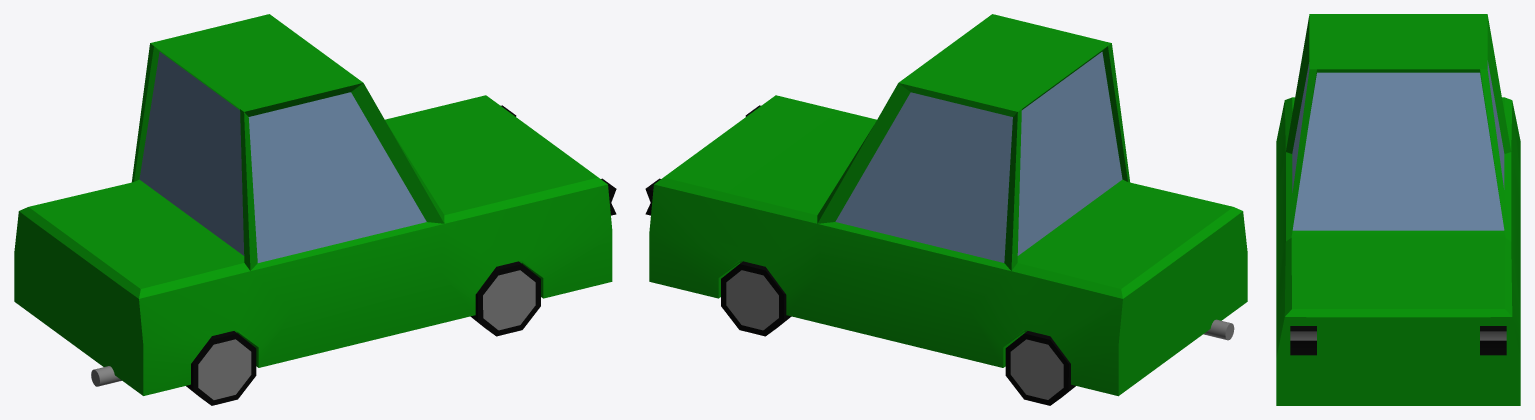
The model's file is Decoration_Car_Green.fbx.
3 views of the same model, side by side, from view 1: azimuth 30°, elevation 25°; view 2: azimuth 150°, elevation 25°; view 3: azimuth 270°, elevation 25° (orthographic). The views are drawn at different scales.
Visible parts, largest first — view 1: pCube1, pCylinder3, pCylinder1; view 2: pCube1, pCylinder2, pCylinder4; view 3: pCube1, pCube2, pCube3.
Part boxes in pixels (bbox=[...]): pCube1: bbox=[14, 14, 612, 395]; pCylinder3: bbox=[470, 261, 540, 336]; pCylinder1: bbox=[186, 331, 256, 405]; pCube1: bbox=[649, 14, 1247, 396]; pCylinder2: bbox=[1005, 331, 1075, 405]; pCylinder4: bbox=[721, 261, 791, 336]; pCube1: bbox=[1276, 14, 1520, 405]; pCube2: bbox=[1290, 326, 1316, 355]; pCube3: bbox=[1480, 326, 1506, 355].
Size of the model in its own units: 2.22 by 1.15 by 1.
